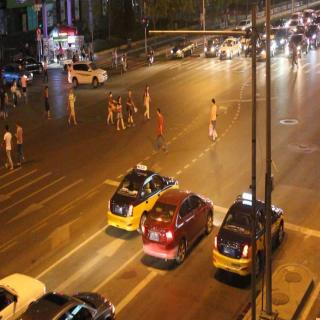Car: (210, 205, 292, 278), (144, 195, 214, 263), (107, 159, 174, 227), (17, 288, 123, 320), (0, 260, 45, 320), (62, 56, 113, 92), (283, 30, 318, 68), (0, 57, 39, 91), (168, 34, 200, 62), (218, 37, 246, 65), (203, 32, 222, 64), (303, 17, 320, 47)
